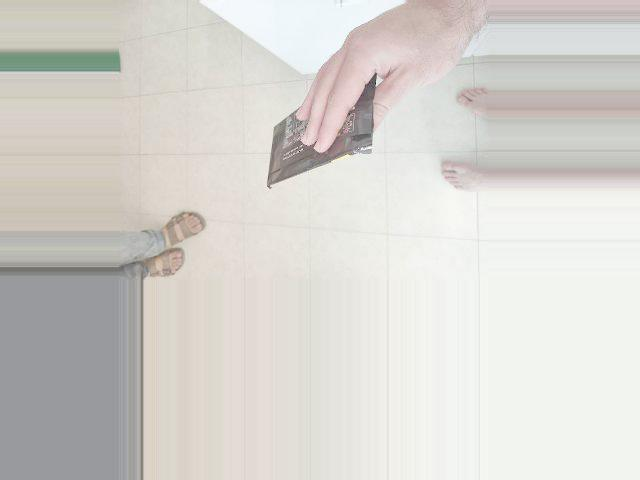chocolate: (205, 147, 345, 267)
